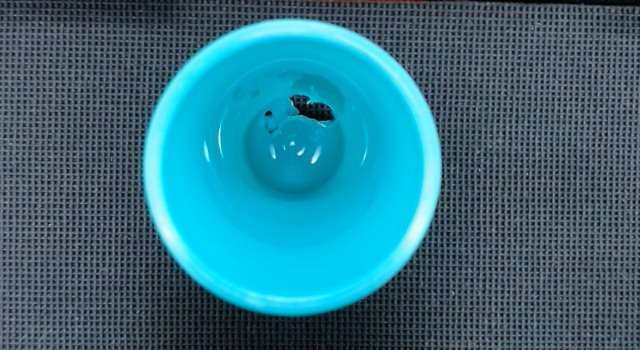hole: (290, 95, 334, 122)
